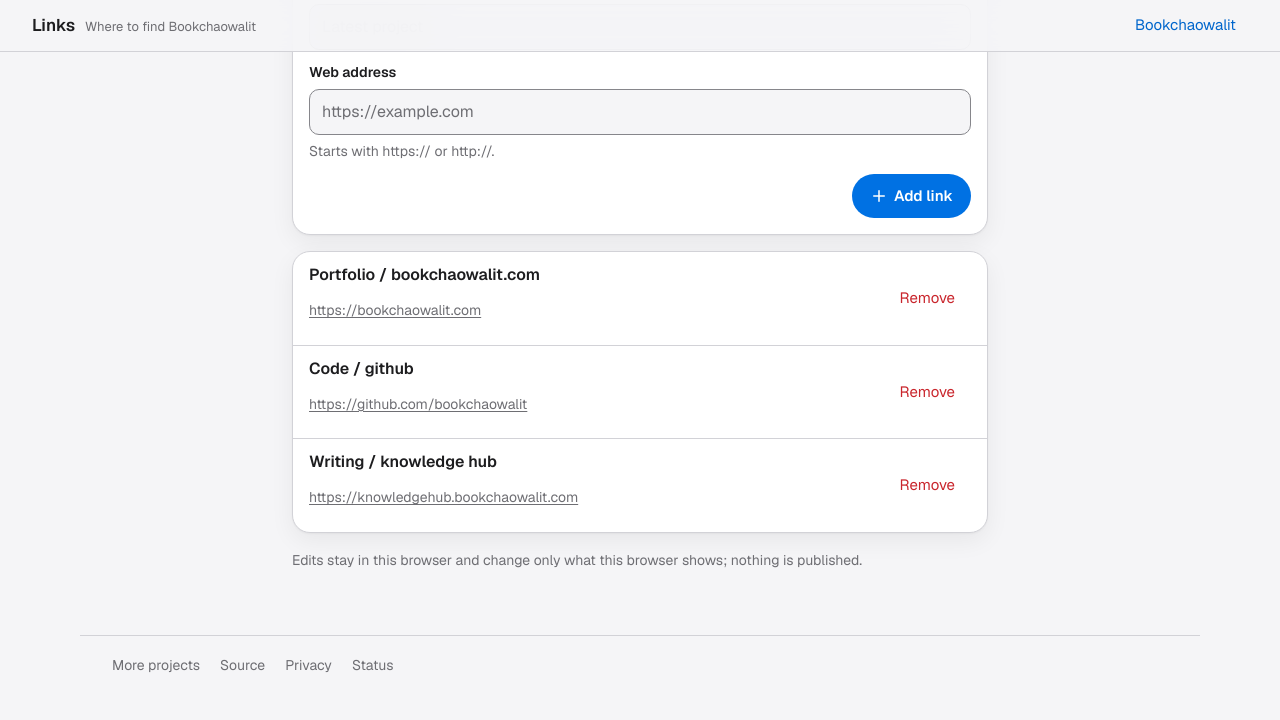
Test: owner editor at /edit › consecutive removes restore together with one Undo, each in its place
The width and height of the screenshot is (1280, 720).
(page scrolled)
Click the button "Remove" in the row of "Code / github": (927, 392) [888, 370, 967, 414]
Wait 4000 ms
(page scrolled)
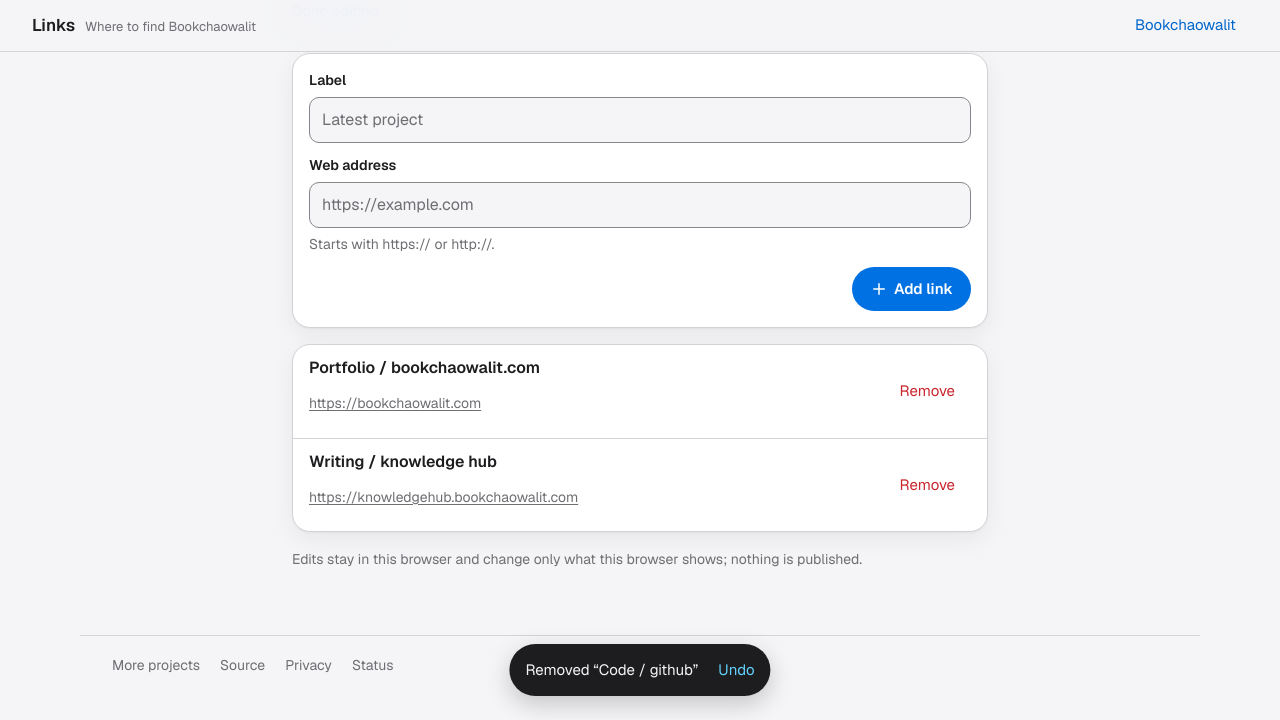
Click the button "Remove" in the row of "Portfolio / bookchaowalit.com": (927, 392) [888, 370, 967, 414]
Wait 4000 ms
(page scrolled)
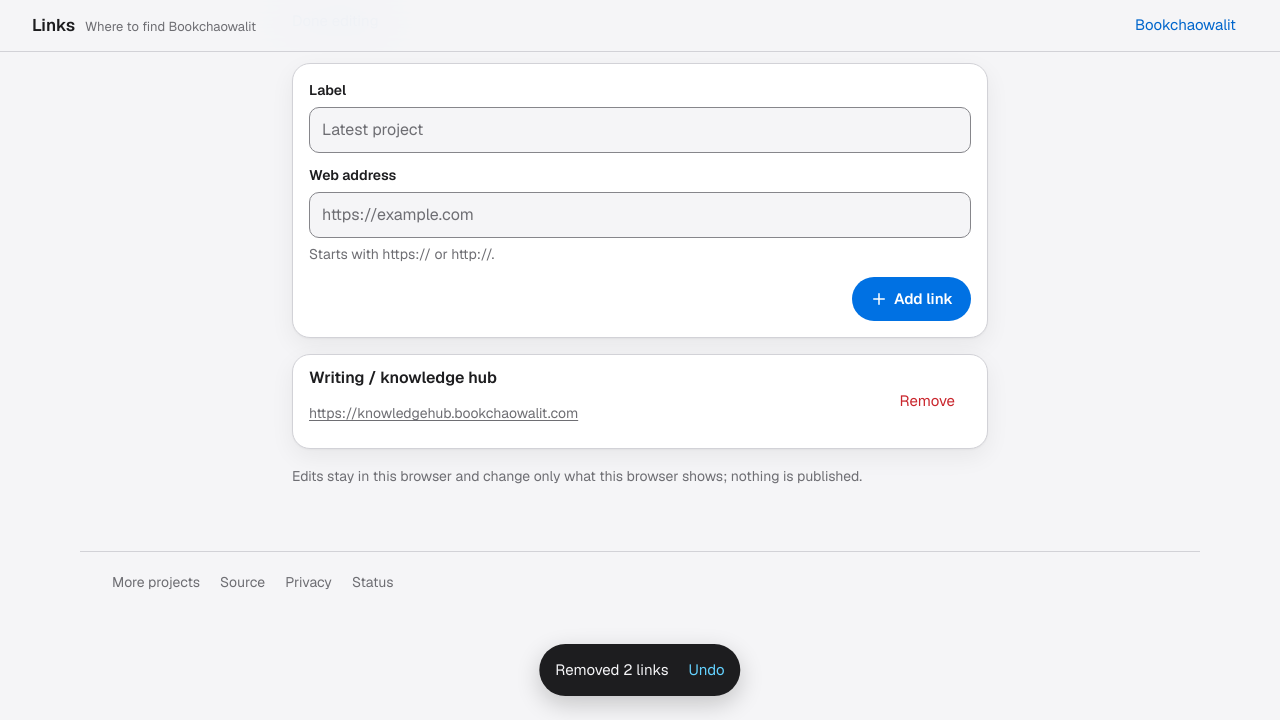
Now the text "Removed 2 links" is shown, box [555, 659, 668, 681]
Click the button "Undo": (707, 670) [676, 648, 737, 692]
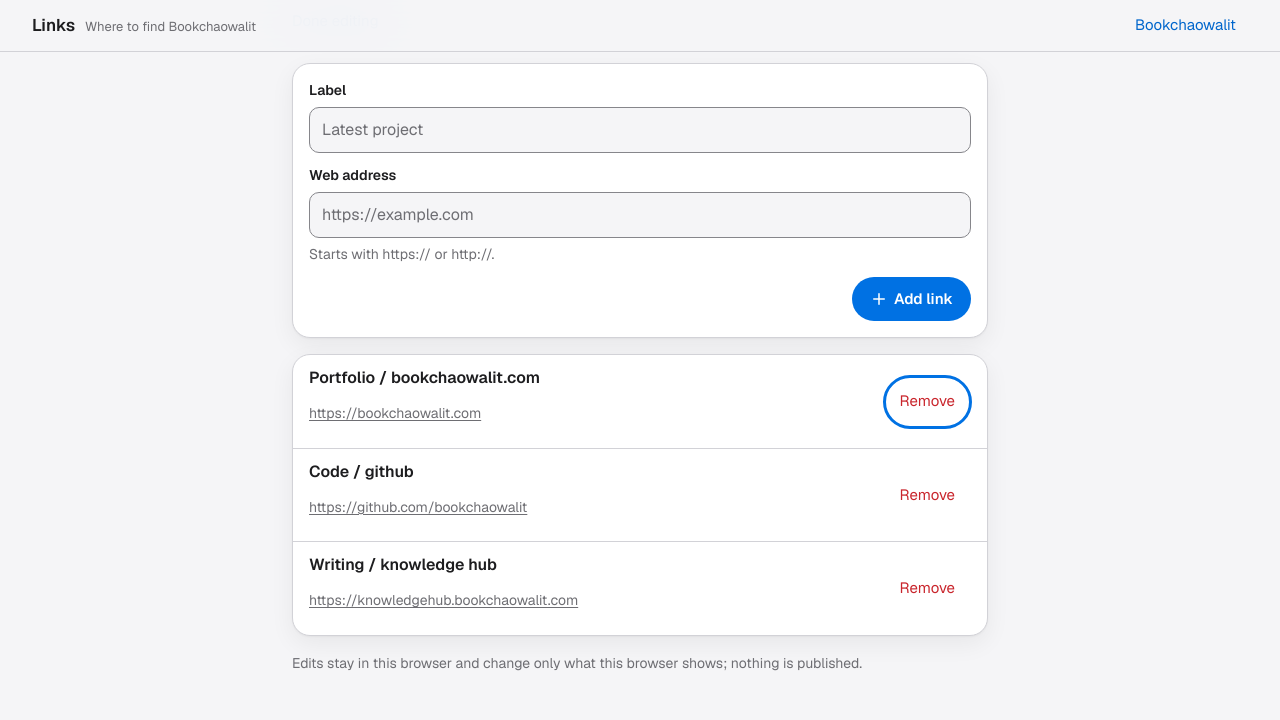
Now the element with class "as-toast" is gone
